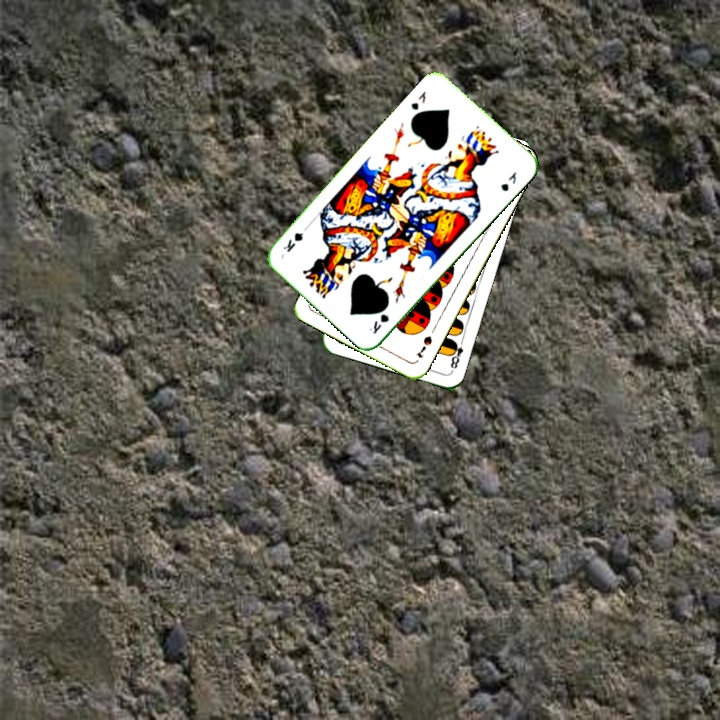E8: (445, 334, 466, 374)
GK: (365, 310, 392, 337), (407, 87, 429, 113)
S7: (412, 332, 435, 360)
